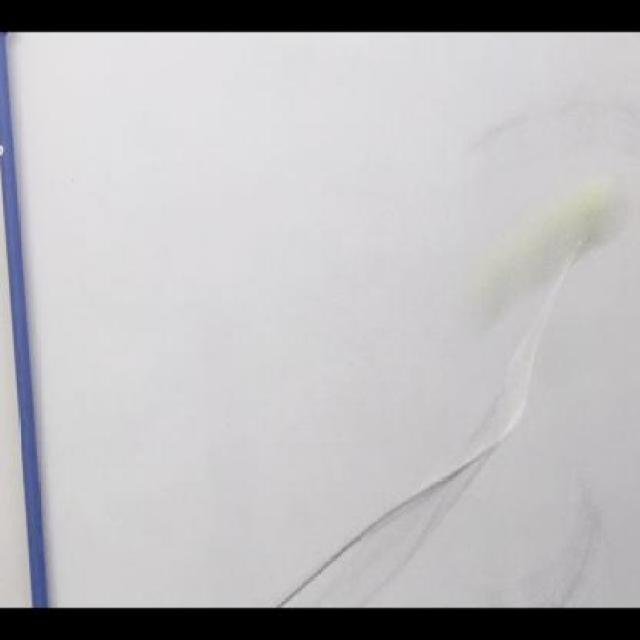baseball: (517, 175, 628, 258)
